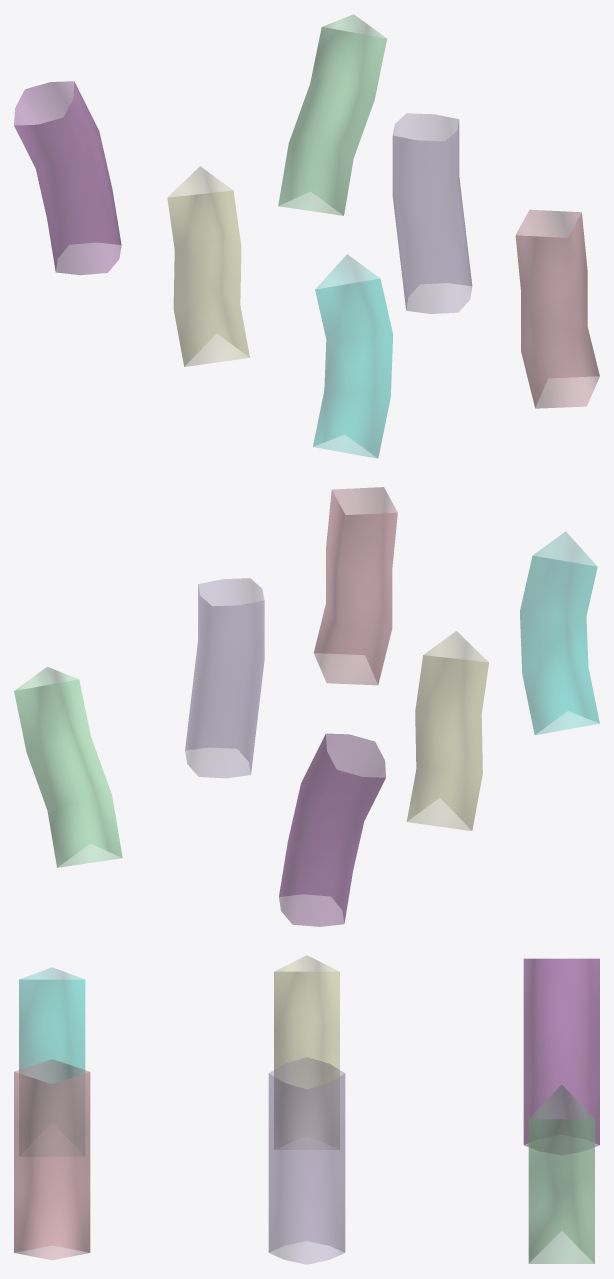
The model's file is phong_transp_mats_2_PolyLineTest_2023-06-04-21-23-01.gltf.
The picture shows the model from 3 angles, top to bottom: view 1: azimuth 30°, elevation 25°; view 2: azimuth 150°, elevation 25°; view 3: azimuth 270°, elevation 25°; orthographic projection.
Size of the model in its own units: 321 by 163 by 460.
